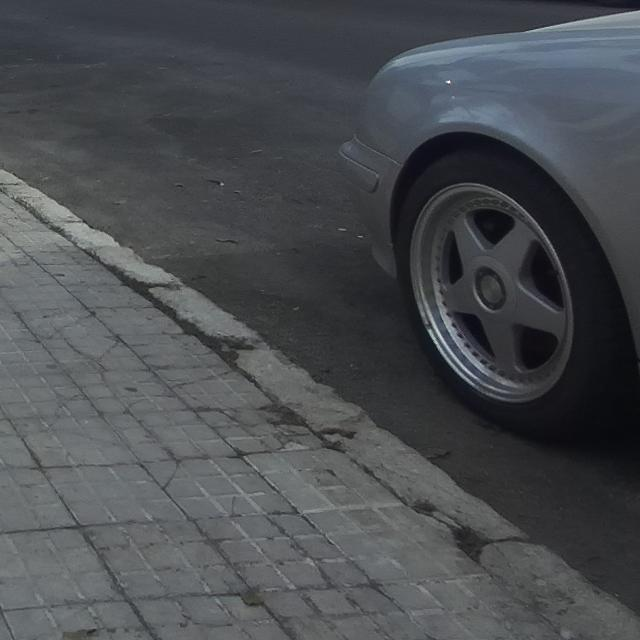calcada_quebrada: (33, 309, 95, 348), (42, 391, 86, 433), (182, 394, 239, 424), (170, 368, 235, 393), (141, 459, 189, 491), (118, 392, 171, 416), (87, 348, 123, 374)
